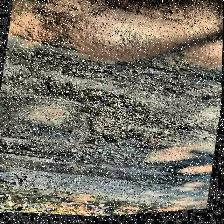pothole: (31, 67, 189, 166)
